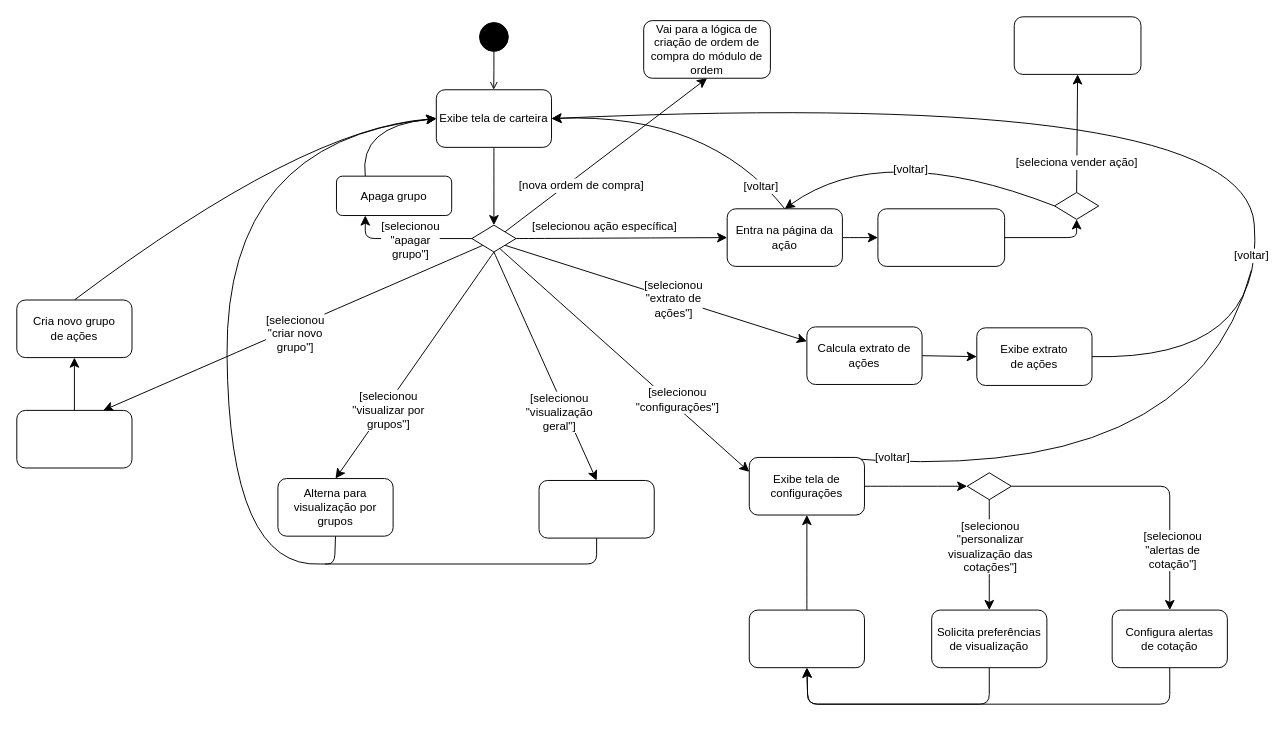
This 1284x731 diagram has some shape labels left out. Each missing label, with the centre of its shape:
Alterna para visualização geral (sem grupos): [596,509]
Exibe gráfico intraday e histórico da ação: [941,237]
Salva preferências: [806,638]
Solicita ações e nome do grupo: [74,438]
Vai para a lógica de criação de ordem de venda do módulo de ordem: [1077,45]
